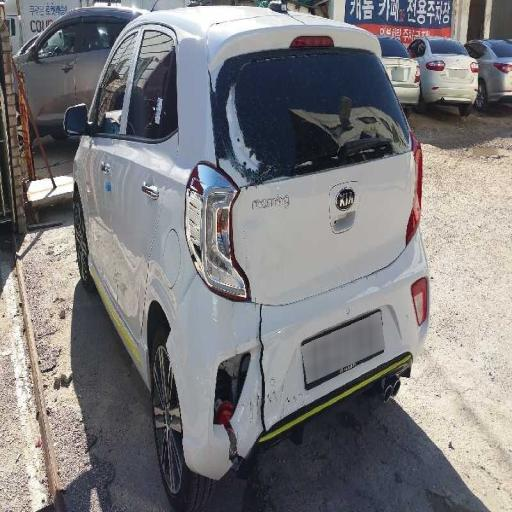broken: (177, 165, 393, 494)
